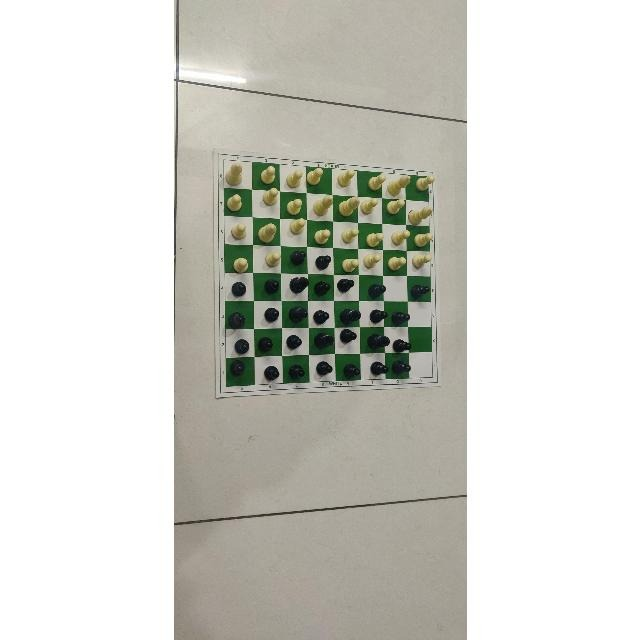black-bishop: (286, 304, 310, 325), (311, 332, 335, 352), (366, 333, 391, 352), (338, 308, 364, 326), (288, 277, 312, 295), (226, 310, 245, 332)
black-pawn: (260, 308, 280, 326), (391, 359, 411, 374), (229, 281, 246, 298), (342, 364, 360, 380), (313, 281, 330, 297), (288, 363, 304, 380), (391, 310, 409, 325), (369, 308, 387, 323), (410, 285, 429, 299), (263, 278, 279, 294), (257, 337, 273, 353), (288, 250, 305, 265), (314, 254, 331, 269), (336, 278, 354, 292), (339, 329, 357, 343), (370, 361, 388, 375), (367, 284, 385, 298), (392, 338, 411, 351), (313, 309, 329, 324), (286, 334, 302, 349), (229, 360, 245, 375), (263, 365, 279, 380), (316, 361, 332, 375), (234, 339, 248, 355)
white-bishop: (337, 193, 362, 217), (405, 204, 432, 226), (312, 194, 336, 216), (387, 174, 411, 195), (258, 222, 278, 243)
white-pawn: (283, 196, 304, 215), (385, 254, 406, 272), (361, 252, 382, 270), (411, 231, 433, 248), (260, 188, 280, 206), (393, 227, 411, 247), (360, 196, 378, 216), (409, 253, 431, 269), (385, 197, 404, 215), (415, 174, 435, 191), (263, 251, 281, 269), (226, 192, 243, 211), (342, 224, 359, 243), (234, 253, 250, 273), (289, 217, 306, 235), (315, 227, 333, 244), (366, 230, 384, 247), (340, 256, 359, 272), (231, 221, 247, 240), (305, 167, 322, 184), (259, 166, 275, 184), (286, 169, 302, 187), (337, 169, 355, 185), (367, 173, 385, 189)
